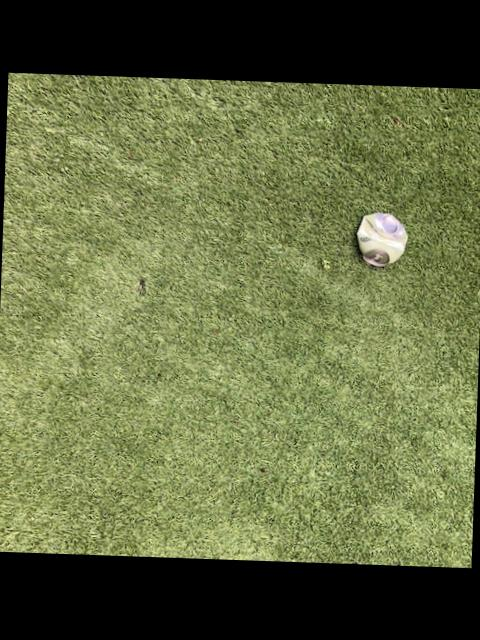metal: (359, 213, 409, 267)
